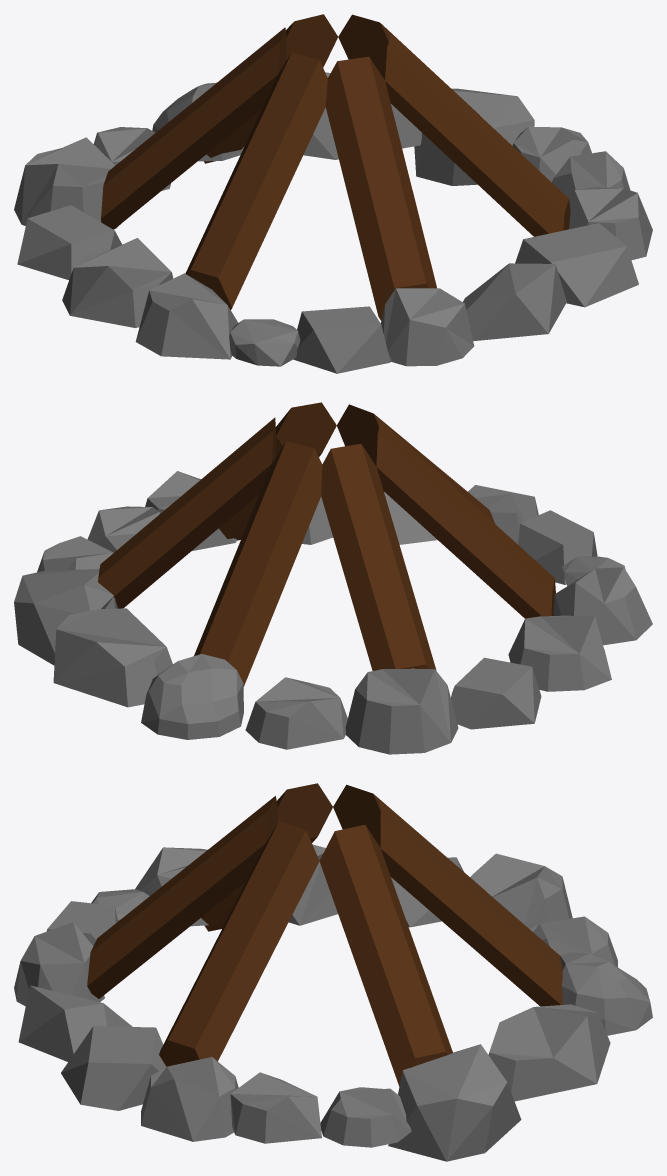
Rendered from Bonfire Unlit 2.fbx.
3 views of the same model, one above another, from view 1: azimuth 30°, elevation 25°; view 2: azimuth 150°, elevation 25°; view 3: azimuth 270°, elevation 25° (orthographic). The views are drawn at different scales.
Visible parts, largest first — view 1: Bonfire_2_Unlit; view 2: Bonfire_2_Unlit; view 3: Bonfire_2_Unlit.
Boxes of the visible parts, x1=… form: Bonfire_2_Unlit: x1=14, y1=14, x2=652, y2=373; Bonfire_2_Unlit: x1=14, y1=402, x2=652, y2=754; Bonfire_2_Unlit: x1=14, y1=783, x2=652, y2=1161.
Bounding box in the file's own units: 215 × 83.61 × 212.
Materials: 1 (1 with a texture image).
